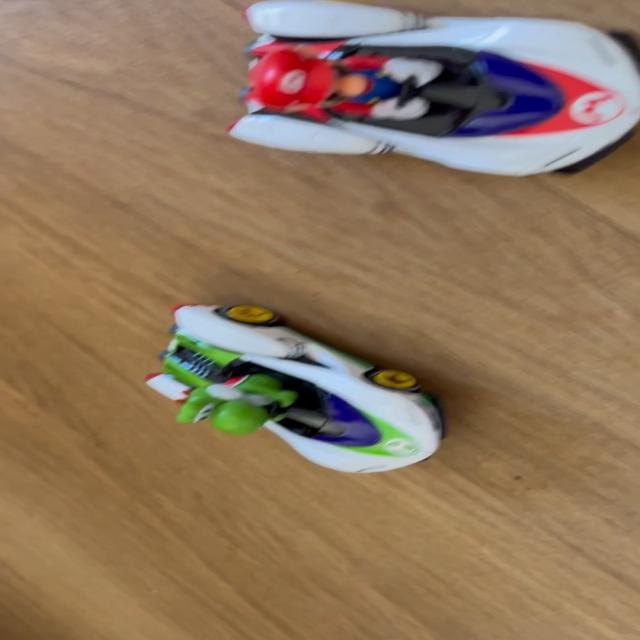mario: (207, 3, 639, 190)
yoshi: (120, 301, 470, 487)
